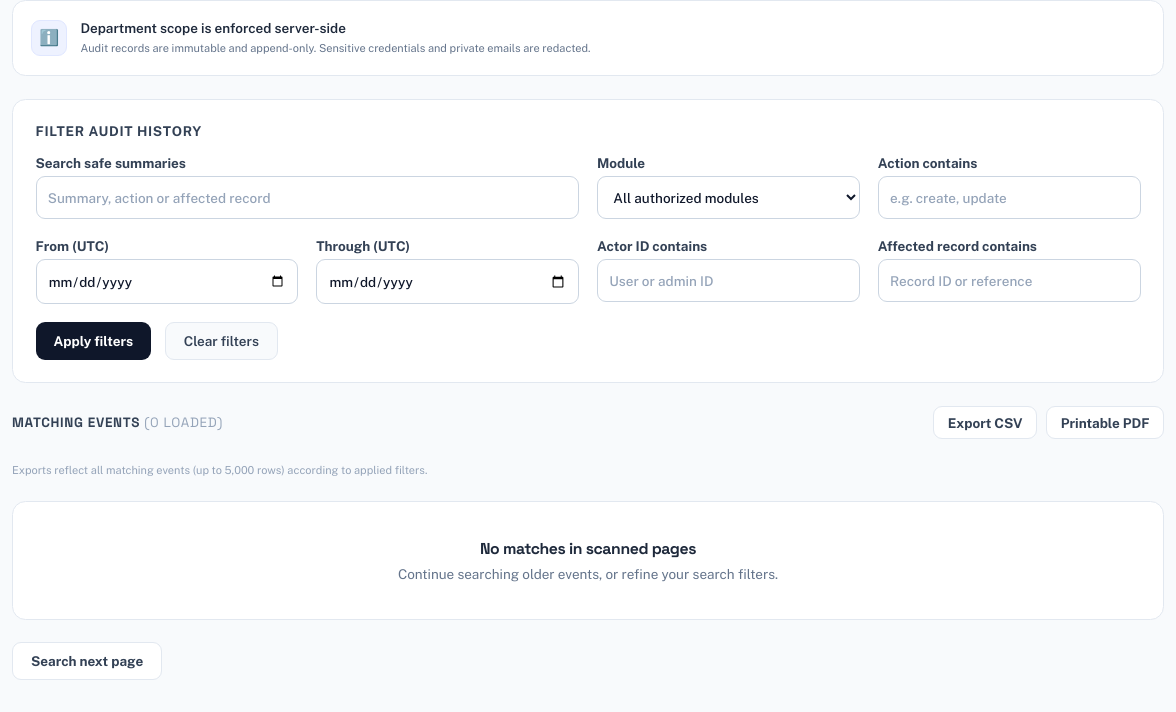
handles export errors without a success claim and discloses unconfigured department scope
What coordinates should you click on to do the following:
click the button "Export CSV"
I would click on:
 (985, 423)
Its box is [933,406,1037,439].
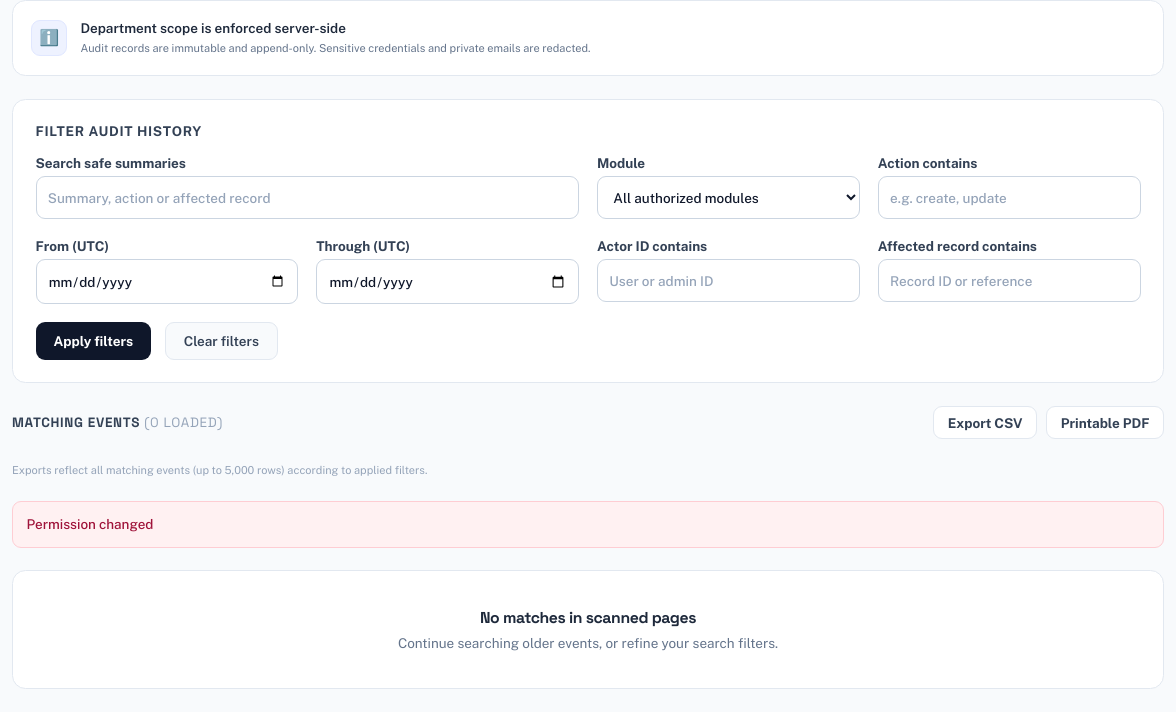
Now the message reads "Permission changed", box [26,516,154,532]
